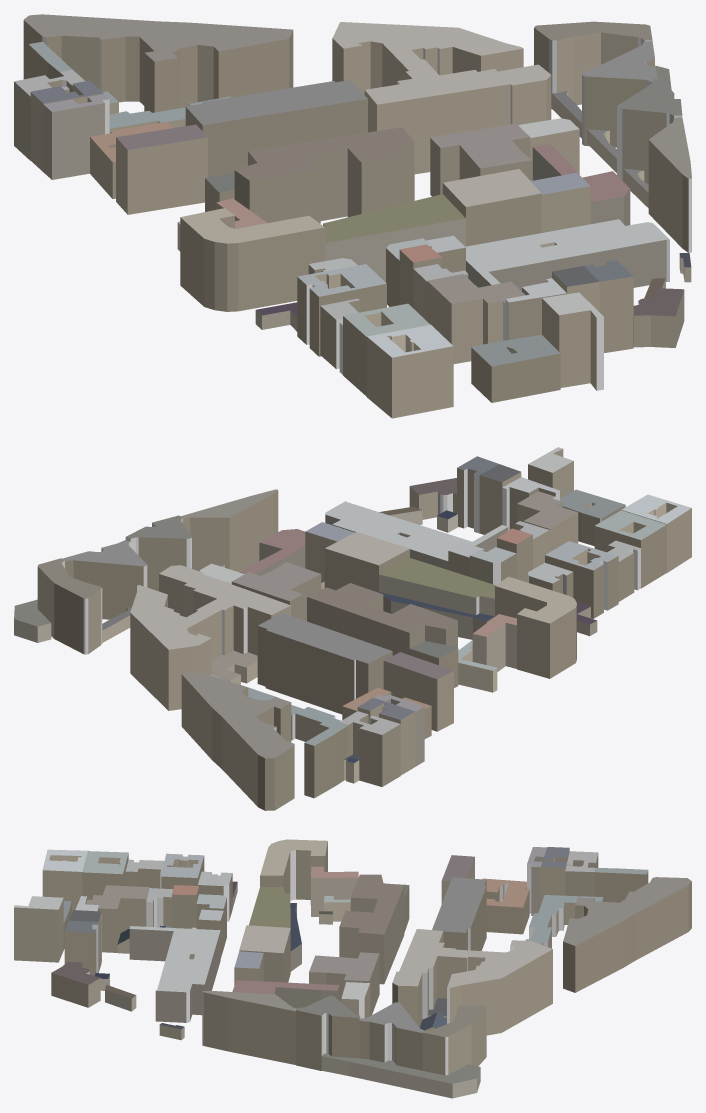
3 renders of one model, top to bottom at view 1: azimuth 30°, elevation 25°; view 2: azimuth 150°, elevation 25°; view 3: azimuth 270°, elevation 25°, orthographic. The views are drawn at different scales.
Visible parts, largest first — view 1: tuile; view 2: tuile; view 3: tuile.
Part boxes in pixels (x1=…): tuile: x1=14, y1=14, x2=691, y2=418; tuile: x1=14, y1=447, x2=691, y2=810; tuile: x1=14, y1=839, x2=691, y2=1098.
Bounding box in the file's own units: 204 × 28.61 × 285.
